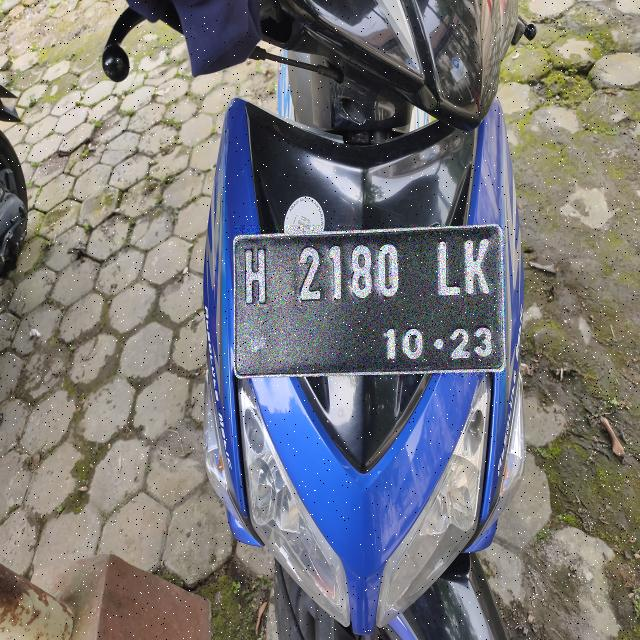plate: (235, 226, 504, 376)
